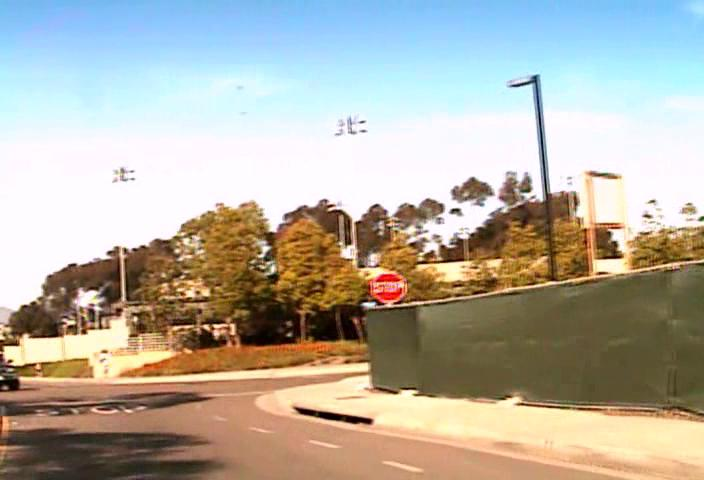stop: (370, 272, 406, 302)
